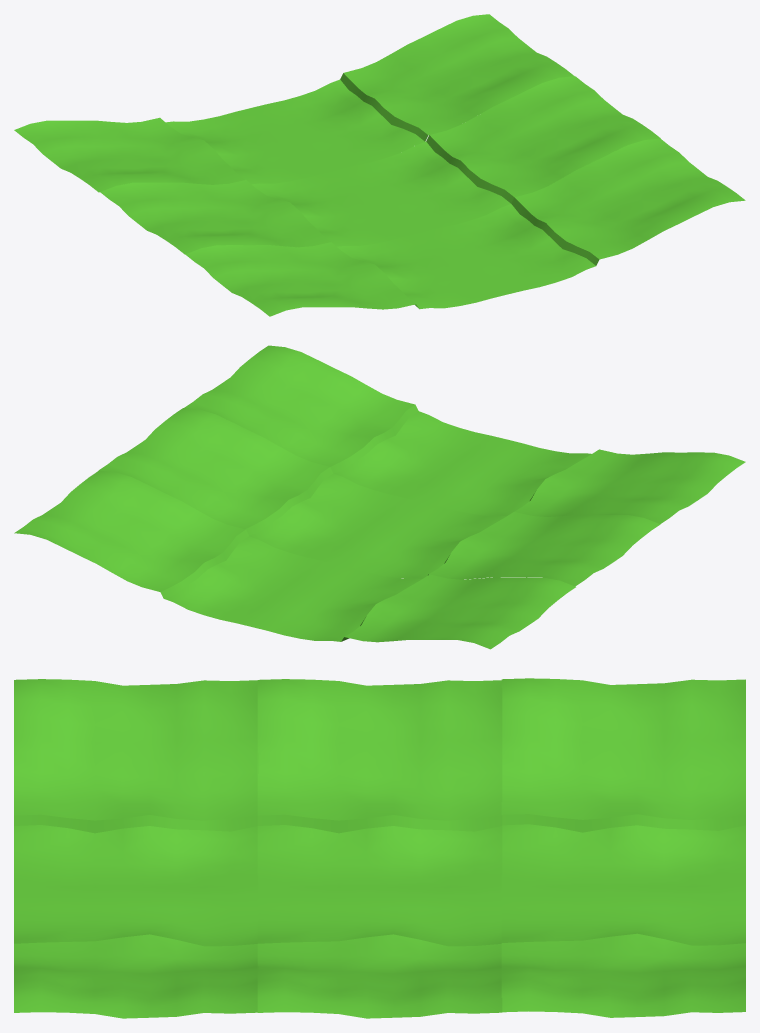
The model's file is Turf1.fbx.
The picture shows the model from 3 angles, top to bottom: view 1: azimuth 30°, elevation 25°; view 2: azimuth 150°, elevation 25°; view 3: azimuth 270°, elevation 25°; orthographic projection. The views are drawn at different scales.
Visible parts, largest first — view 1: Turf.001, Turf, Turf.002; view 2: Turf, Turf.002, Turf.001; view 3: Turf.001, Turf, Turf.002.
Part boxes in pixels (x1=…): Turf.001: x1=100, y1=76, x2=660, y2=254; Turf: x1=14, y1=14, x2=574, y2=192; Turf.002: x1=185, y1=138, x2=745, y2=316; Turf: x1=14, y1=470, x2=575, y2=649; Turf.002: x1=184, y1=345, x2=745, y2=523; Turf.001: x1=98, y1=408, x2=660, y2=586; Turf.001: x1=257, y1=679, x2=502, y2=1018; Turf: x1=501, y1=678, x2=745, y2=1017; Turf.002: x1=14, y1=679, x2=258, y2=1018.
Size of the model in its own units: 8321 by 687 by 7712.
